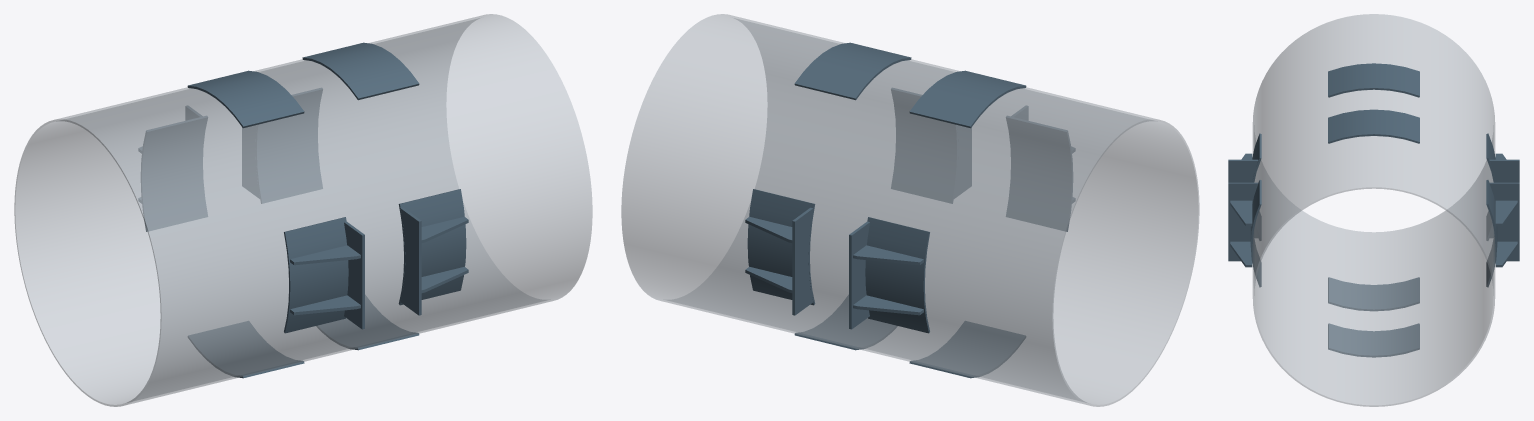
The model's file is TS-663.00.00-12-opora-dn1420.glb.
3 renders of one model, left to right at view 1: azimuth 30°, elevation 25°; view 2: azimuth 150°, elevation 25°; view 3: azimuth 270°, elevation 25°, orthographic. The views are drawn at different scales.
Visible parts, largest first — view 1: truba, det_16, det_12, det_8, det_4, det_17, det_18, det_20, det_19, det_1, det_5, det_9 (+4 smaller); view 2: truba, det_8, det_4, det_16, det_12, det_17, det_18, det_20, det_19, det_9, det_13, det_1 (+4 smaller); view 3: truba, det_18, det_17, det_20, det_19, det_1, det_9, det_4, det_12, det_5, det_13, det_2 (+5 smaller).
Part boxes in pixels (x1,y1,x2,y2): truba: (14, 14, 592, 406); det_16: (141, 116, 207, 231); det_12: (256, 88, 322, 203); det_8: (284, 217, 348, 333); det_4: (398, 189, 466, 305); det_17: (302, 42, 419, 100); det_18: (187, 70, 304, 128); det_20: (188, 321, 304, 378); det_19: (316, 295, 419, 350); det_1: (400, 207, 421, 315); det_5: (344, 221, 364, 329); det_9: (242, 125, 259, 198); truba: (621, 14, 1199, 406); det_8: (1006, 116, 1072, 231); det_4: (891, 88, 957, 203); det_16: (865, 217, 929, 333); det_12: (747, 189, 815, 305); det_17: (794, 42, 911, 100); det_18: (909, 70, 1026, 128); det_20: (909, 321, 1025, 378); det_19: (794, 295, 897, 350); det_9: (792, 207, 813, 315); det_13: (849, 221, 869, 329); det_1: (954, 125, 971, 198); truba: (1252, 14, 1495, 406); det_18: (1328, 63, 1419, 97); det_17: (1328, 109, 1419, 143); det_20: (1328, 277, 1419, 311); det_19: (1328, 323, 1419, 357); det_1: (1228, 182, 1258, 261); det_9: (1489, 182, 1519, 261); det_4: (1250, 180, 1261, 287); det_12: (1486, 180, 1497, 287); det_5: (1228, 159, 1258, 237); det_13: (1489, 159, 1519, 237); det_2: (1230, 200, 1252, 226).
Size of the model in its own units: 2400 by 1444 by 1707.
